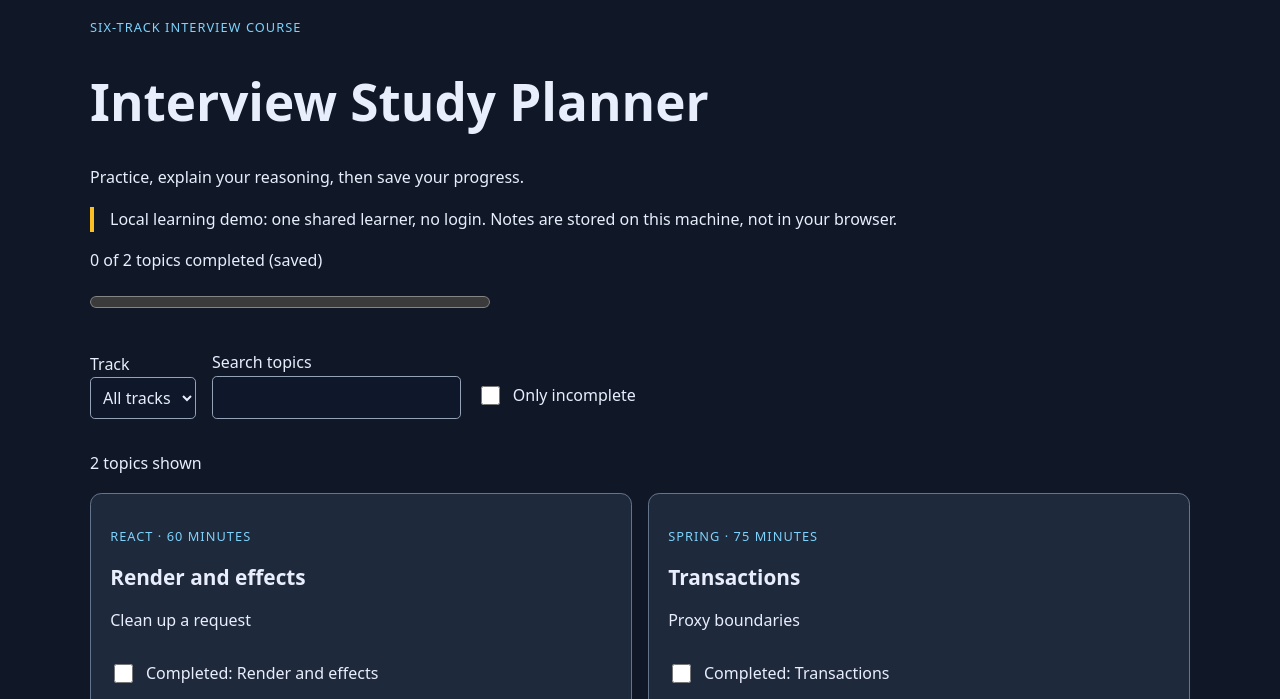
it: study planner › persists explicit state, not a toggle, and updates saved count only on success
The width and height of the screenshot is (1280, 699).
Click the checkbox labelled "Completed: Render and effects" at (124, 674), box [114, 664, 133, 683]
(page scrolled)
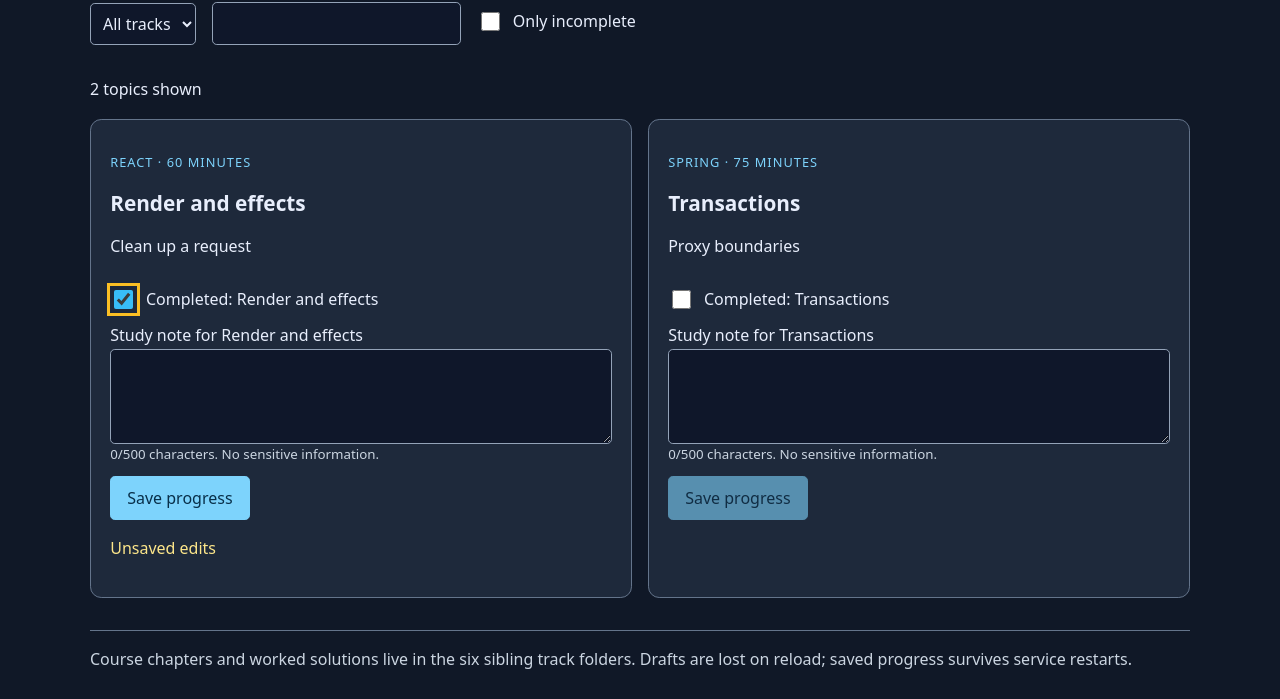
Type "Explain cleanup" into the text box labelled "Study note for Render and effects" at (361, 396), box [110, 349, 612, 444]
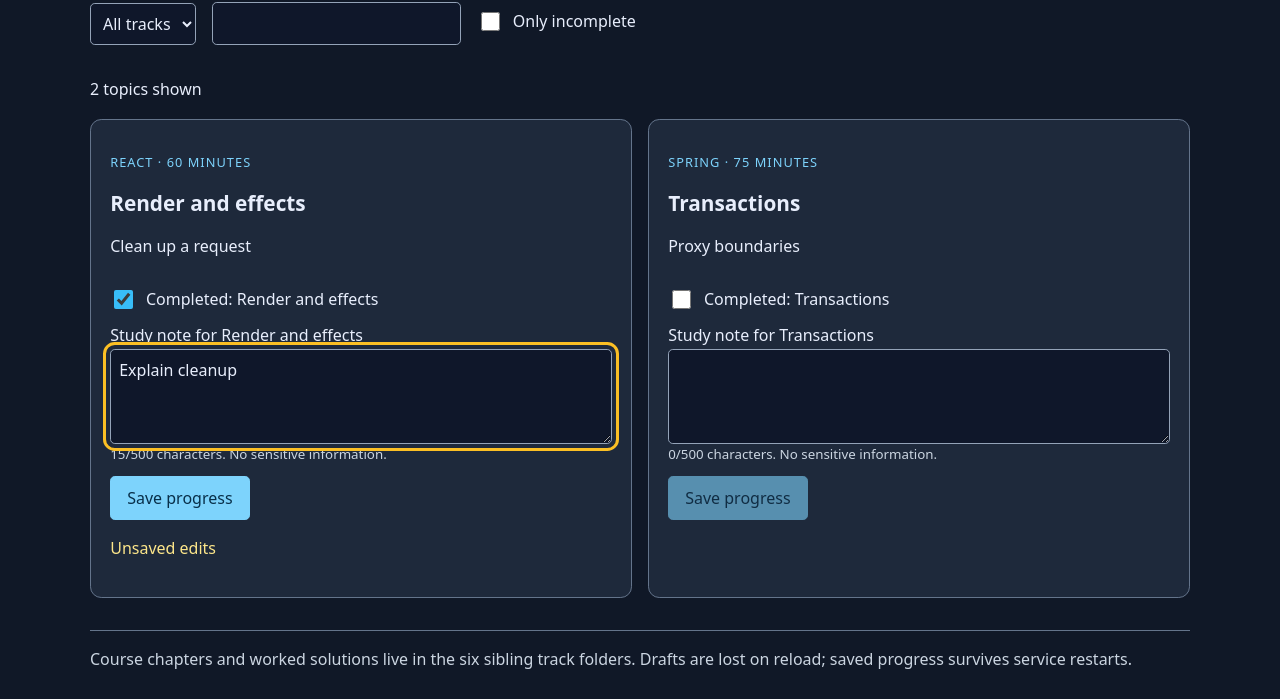
Click the button "Save progress" below "15" at (180, 498), box [110, 476, 250, 520]
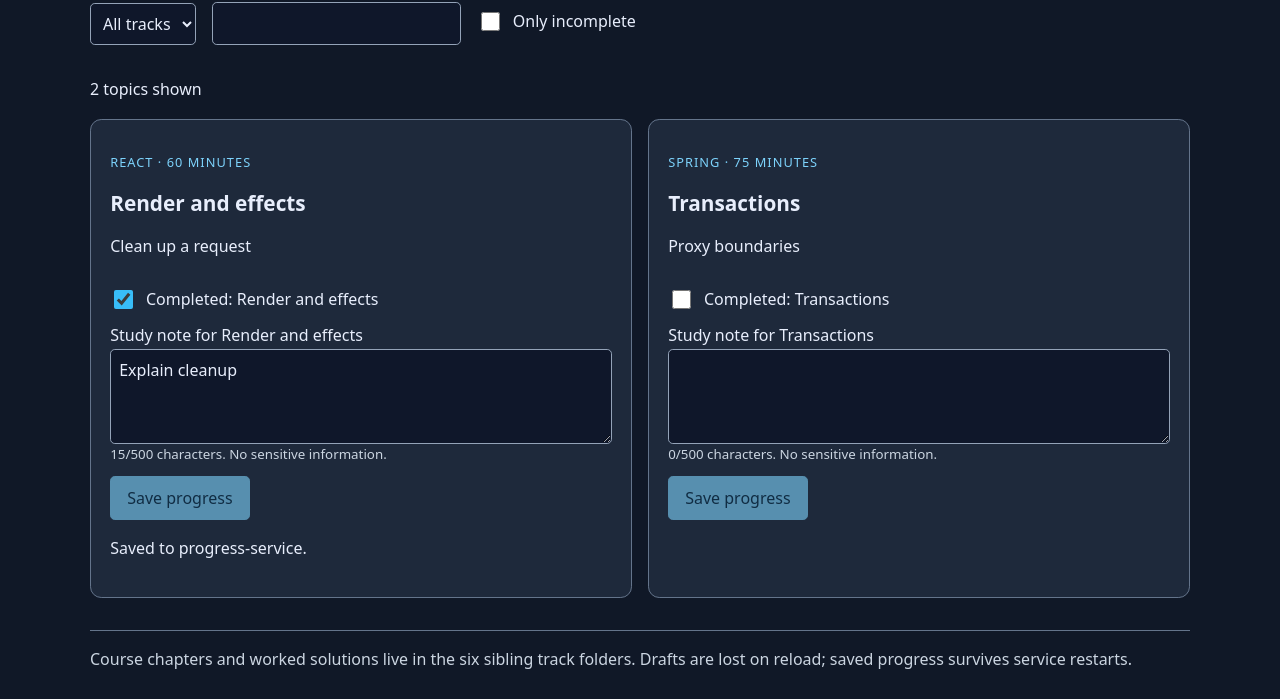
Expected: the text "Saved to progress-service." is shown, [110, 537, 307, 559]
Expected: the button "Save progress" below "15" is disabled, [110, 476, 250, 520]
